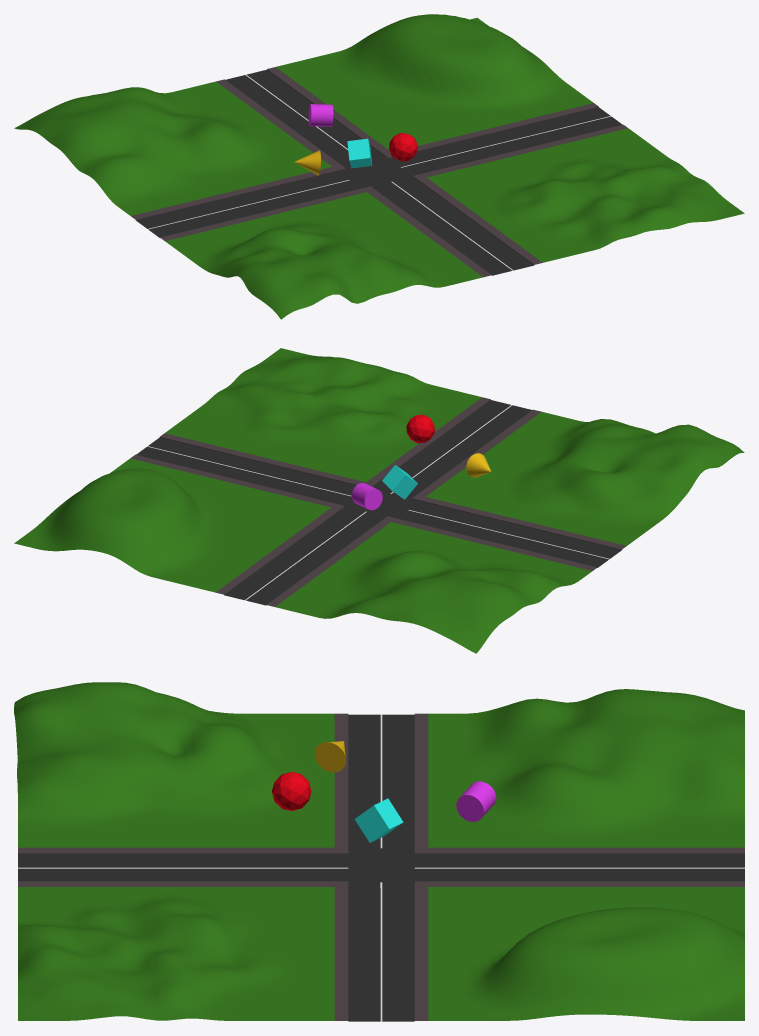
File: roads.fbx
3 views of the same model, one above another, from view 1: azimuth 30°, elevation 25°; view 2: azimuth 150°, elevation 25°; view 3: azimuth 270°, elevation 25° (orthographic). The views are drawn at different scales.
Visible parts, largest first — view 1: Grass_Plane, Grass_Plane.001, Grass_Plane.003, Grass_Plane.002, Road, Road.001, Road.004, Road.003, Intersection, Icosphere, Cube, Cylinder; view 2: Grass_Plane.002, Grass_Plane.003, Grass_Plane, Grass_Plane.001, Road, Road.004, Road.003, Road.001, Intersection, Cube, Icosphere, Cylinder; view 3: Grass_Plane.002, Grass_Plane.001, Grass_Plane.003, Grass_Plane, Road.004, Road.001, Road.003, Road, Intersection, Cube, Icosphere, Cylinder (+1 smaller).
Boxes of the visible parts, bbox=[...] form: Grass_Plane: bbox=[276, 14, 593, 149]; Grass_Plane.001: bbox=[14, 81, 331, 215]; Grass_Plane.003: bbox=[427, 128, 744, 262]; Grass_Plane.002: bbox=[165, 192, 482, 319]; Road: bbox=[131, 167, 366, 241]; Road.001: bbox=[367, 177, 542, 277]; Road.004: bbox=[404, 103, 627, 177]; Road.003: bbox=[216, 67, 389, 166]; Intersection: bbox=[332, 153, 425, 191]; Icosphere: bbox=[389, 133, 417, 161]; Cube: bbox=[347, 138, 372, 168]; Cylinder: bbox=[308, 104, 333, 126]; Grass_Plane.002: bbox=[426, 412, 744, 545]; Grass_Plane.003: bbox=[165, 348, 481, 482]; Grass_Plane: bbox=[14, 458, 331, 592]; Grass_Plane.001: bbox=[275, 522, 592, 653]; Road: bbox=[391, 497, 626, 570]; Road.004: bbox=[131, 433, 365, 507]; Road.003: bbox=[216, 507, 390, 606]; Road.001: bbox=[366, 397, 541, 496]; Intersection: bbox=[332, 482, 424, 521]; Cube: bbox=[382, 465, 417, 499]; Icosphere: bbox=[406, 414, 434, 443]; Cylinder: bbox=[351, 483, 382, 510]; Grass_Plane.002: bbox=[14, 682, 334, 847]; Grass_Plane.001: bbox=[428, 689, 744, 847]; Grass_Plane.003: bbox=[18, 887, 334, 1020]; Grass_Plane: bbox=[428, 887, 744, 1020]; Road.004: bbox=[334, 887, 428, 1021]; Road.001: bbox=[18, 847, 334, 886]; Road.003: bbox=[428, 847, 744, 886]; Road: bbox=[334, 713, 428, 848]; Intersection: bbox=[334, 847, 428, 887]; Cube: bbox=[354, 798, 403, 842]; Icosphere: bbox=[272, 772, 311, 810]; Cylinder: bbox=[456, 781, 496, 821].
Bounding box in the file's own units: 81.07 × 10.75 × 80.77.
